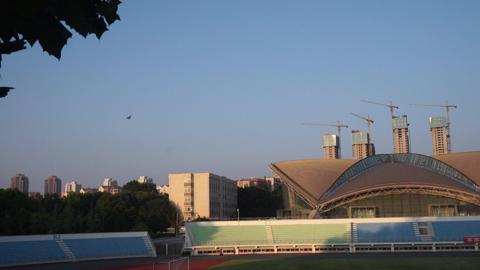UAV: (126, 115, 132, 120)
